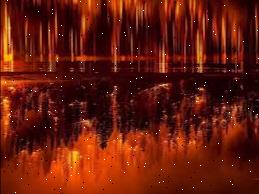fire: (0, 89, 118, 182), (122, 82, 248, 162)
